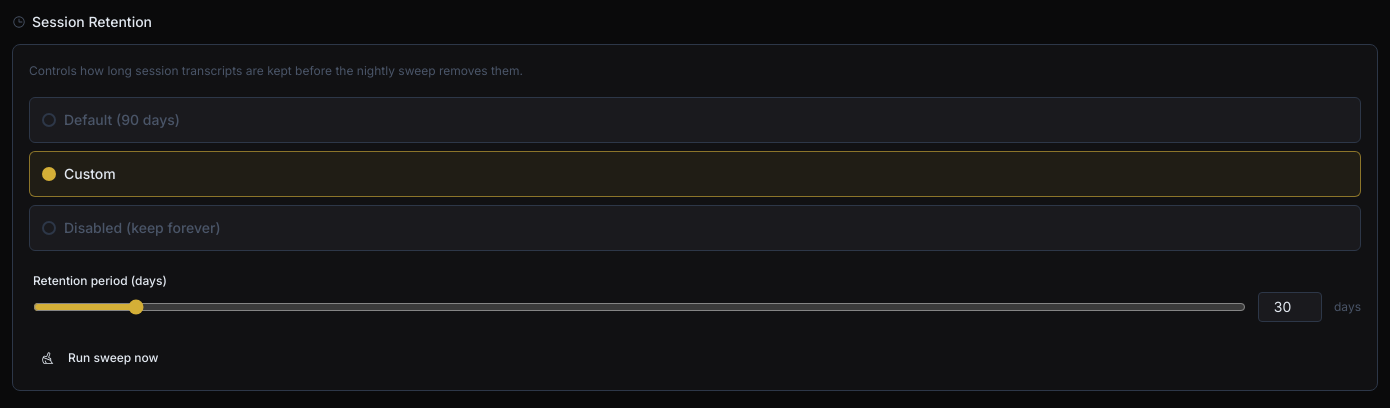
RetentionSection — autosave on radio click › shows SaveStatus "Saving…" while mutation is in flight
This screenshot has width=1390, height=408.
What coordinates should you click on to do the following:
click the radio button labelled "Default (90 days)"
I would click on:
 (122, 119)
Its box is x1=29 y1=96 x2=1361 y2=142.
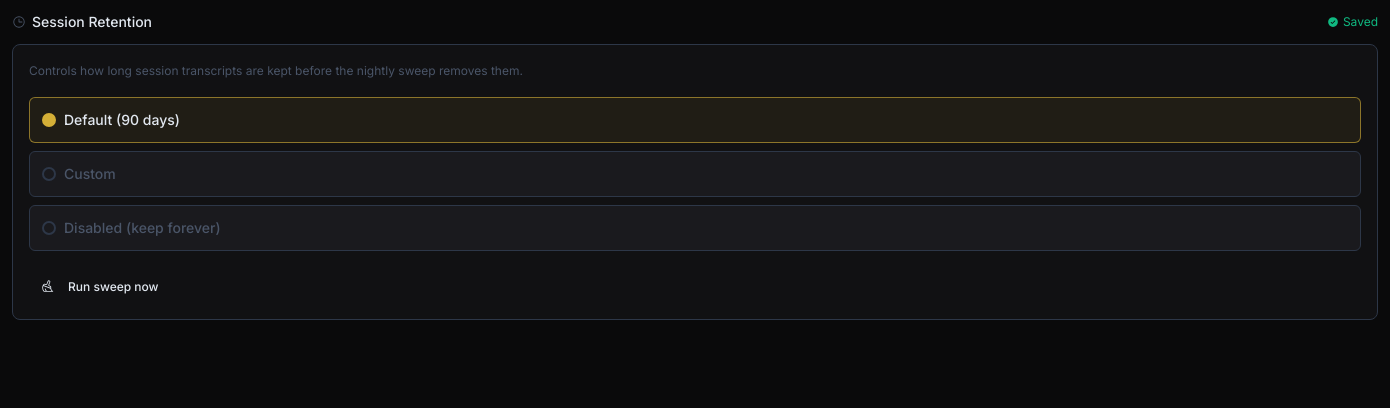
Expected: the text "saving" is shown, x1=1327 y1=14 x2=1378 y2=30
